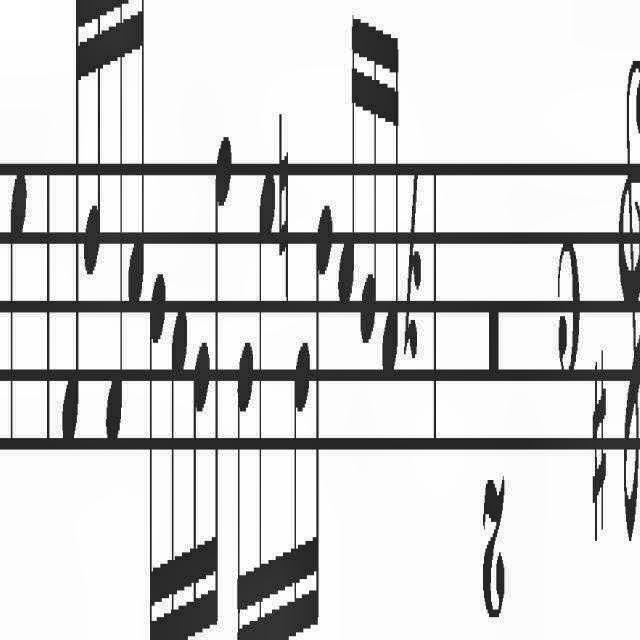Bass-clef: (615, 27, 640, 583), (639, 27, 640, 583)
Diez: (590, 346, 610, 570)
Quarter-note: (6, 156, 30, 467)
Sixteenth-note: (208, 107, 230, 628), (104, 0, 128, 454), (312, 187, 336, 640), (60, 0, 83, 468), (258, 164, 276, 640), (382, 12, 402, 404), (148, 248, 168, 640), (170, 296, 190, 640), (128, 0, 148, 332), (360, 6, 378, 367), (235, 347, 257, 640), (83, 0, 104, 296), (337, 1, 355, 323), (293, 320, 311, 640), (193, 335, 211, 640)
